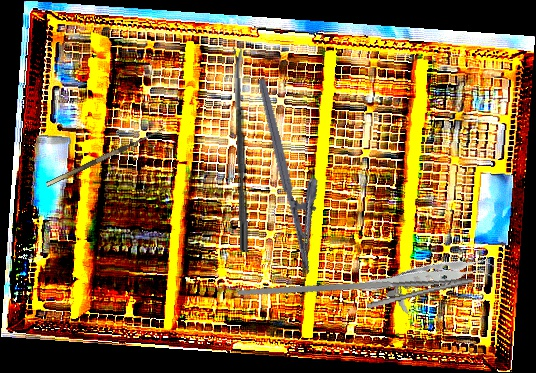Hook Surgical: (42, 121, 166, 187)
Needle Holder: (237, 248, 477, 343), (256, 71, 338, 276)
Surgical Spoon: (233, 46, 250, 253)
Tissue Forceps: (358, 219, 506, 339)
